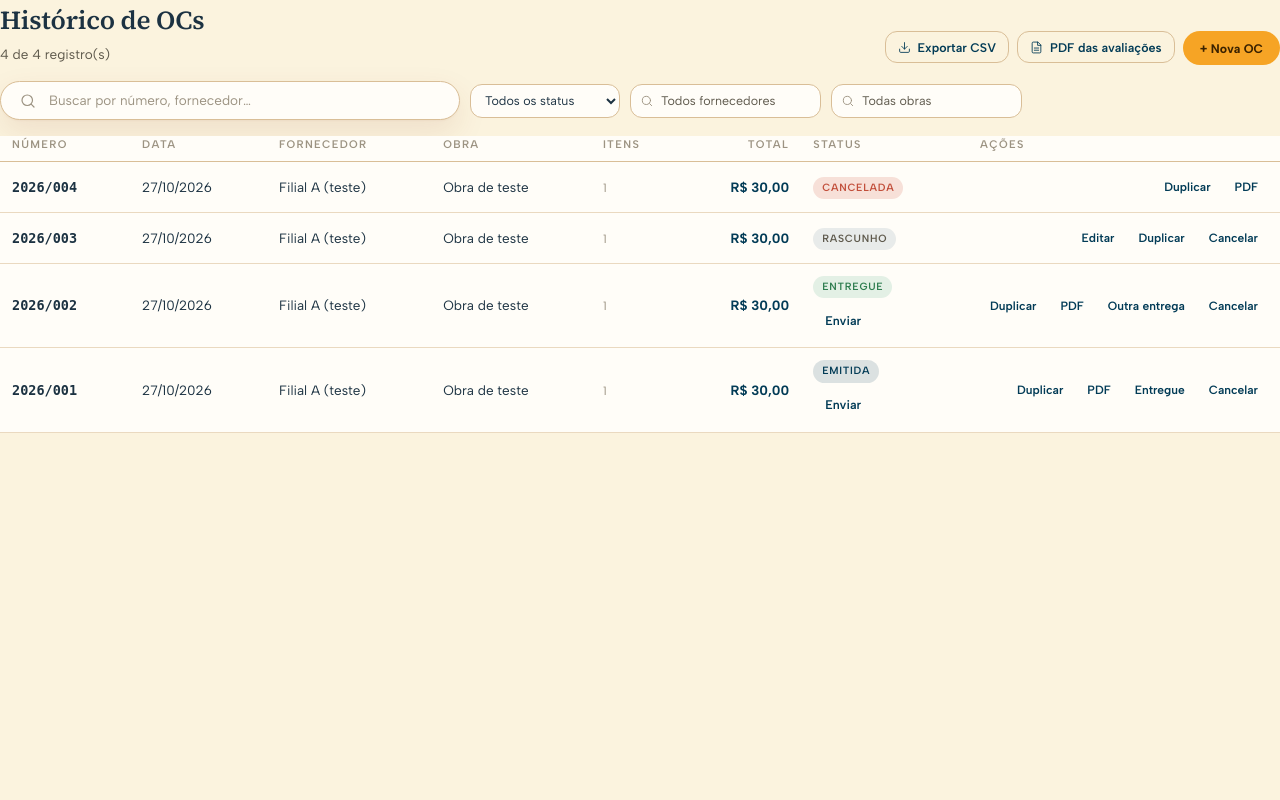
Test: D604 §3.2 — o "Entregue" abre a avaliação › o banco recusou: a frase fica na caixa, que continua aberta com o que foi digitado
Click the button "Entregue": [1160, 390] box [1125,376,1195,404]
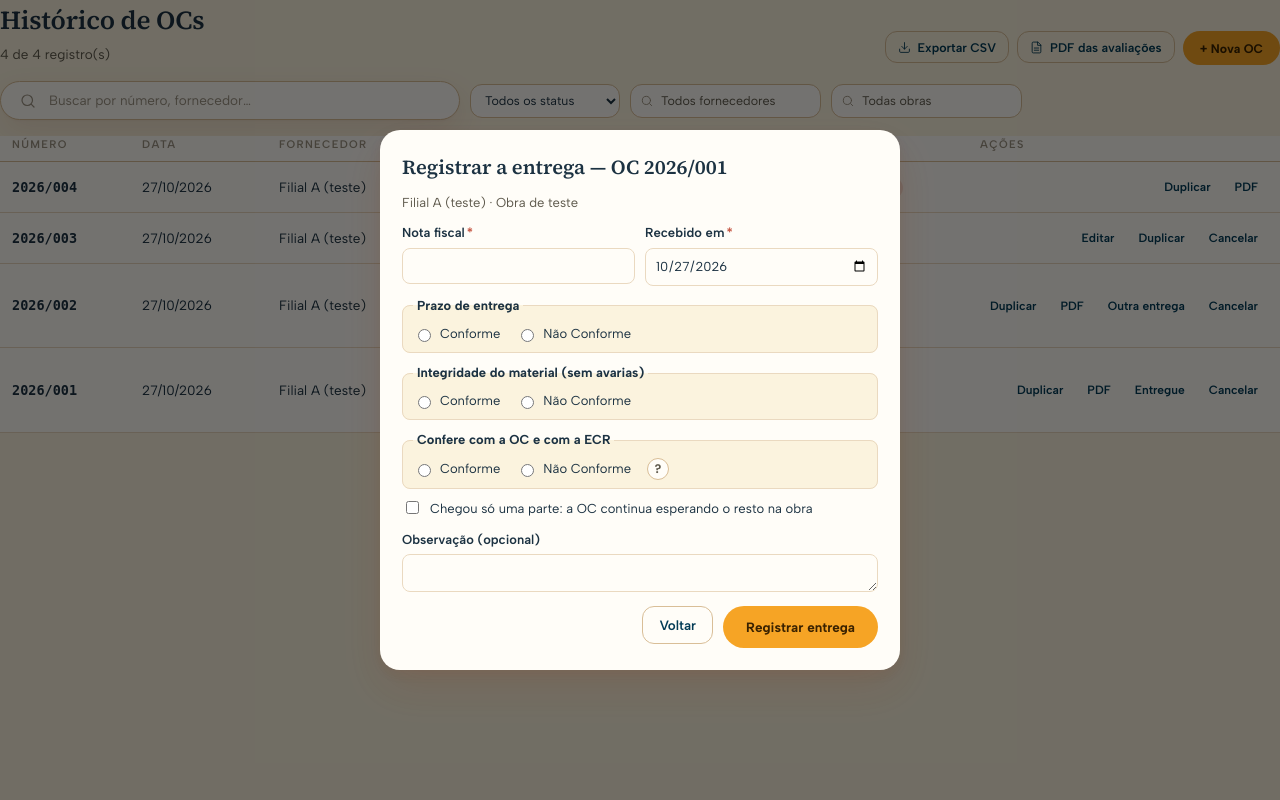
In the field labelled "Nota fiscal*": [518, 266] box [402,248,635,284], type "77"
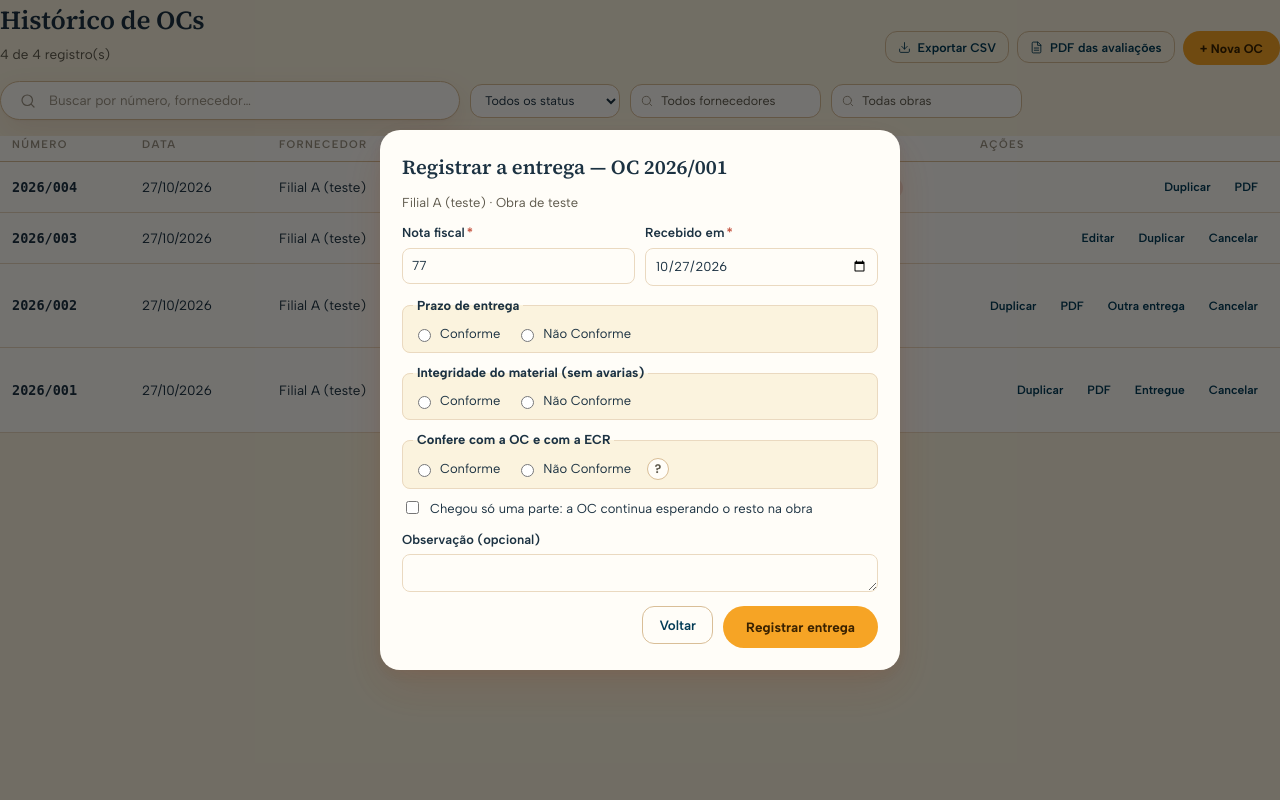
Click the radio button labelled "Conforme" below "Prazo de entrega": [424, 335] box [418,329,431,342]
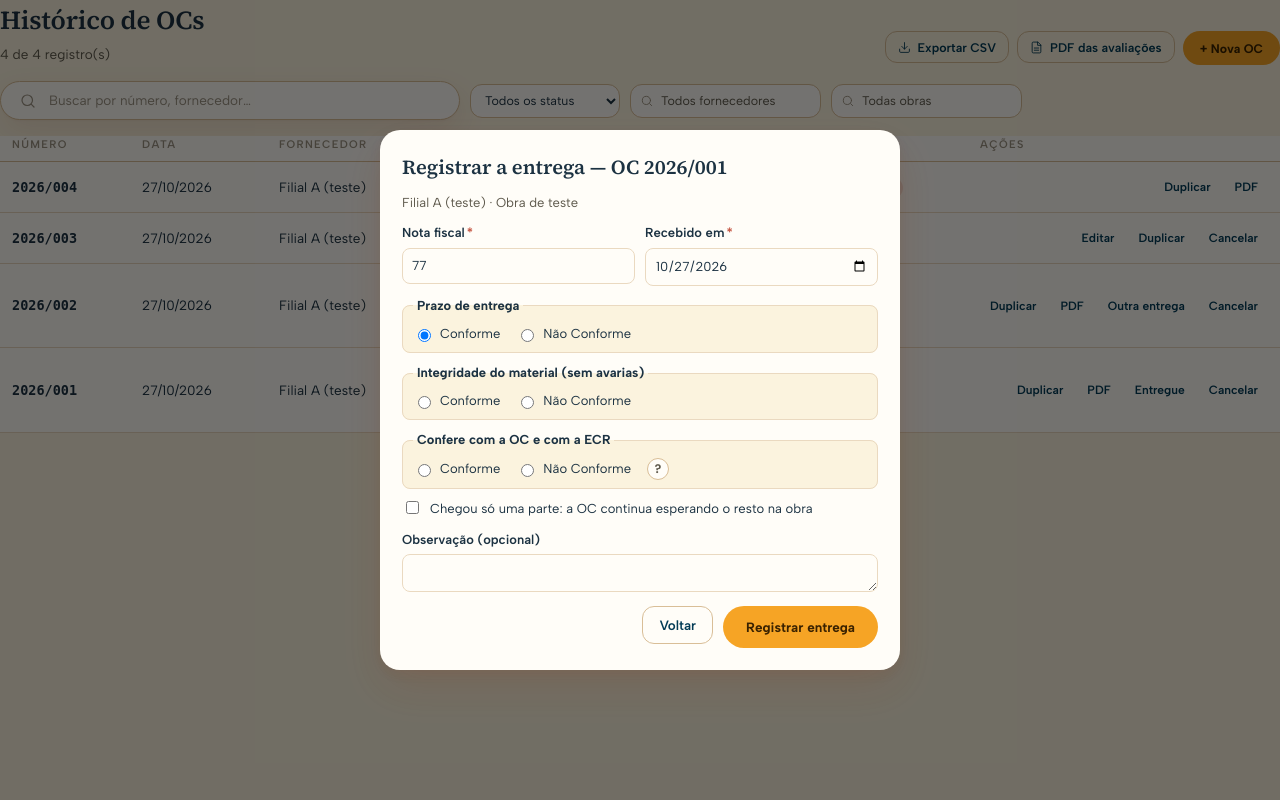
Click the radio button labelled "Conforme" below "Integridade do material (sem avarias)": [424, 403] box [418,396,431,409]
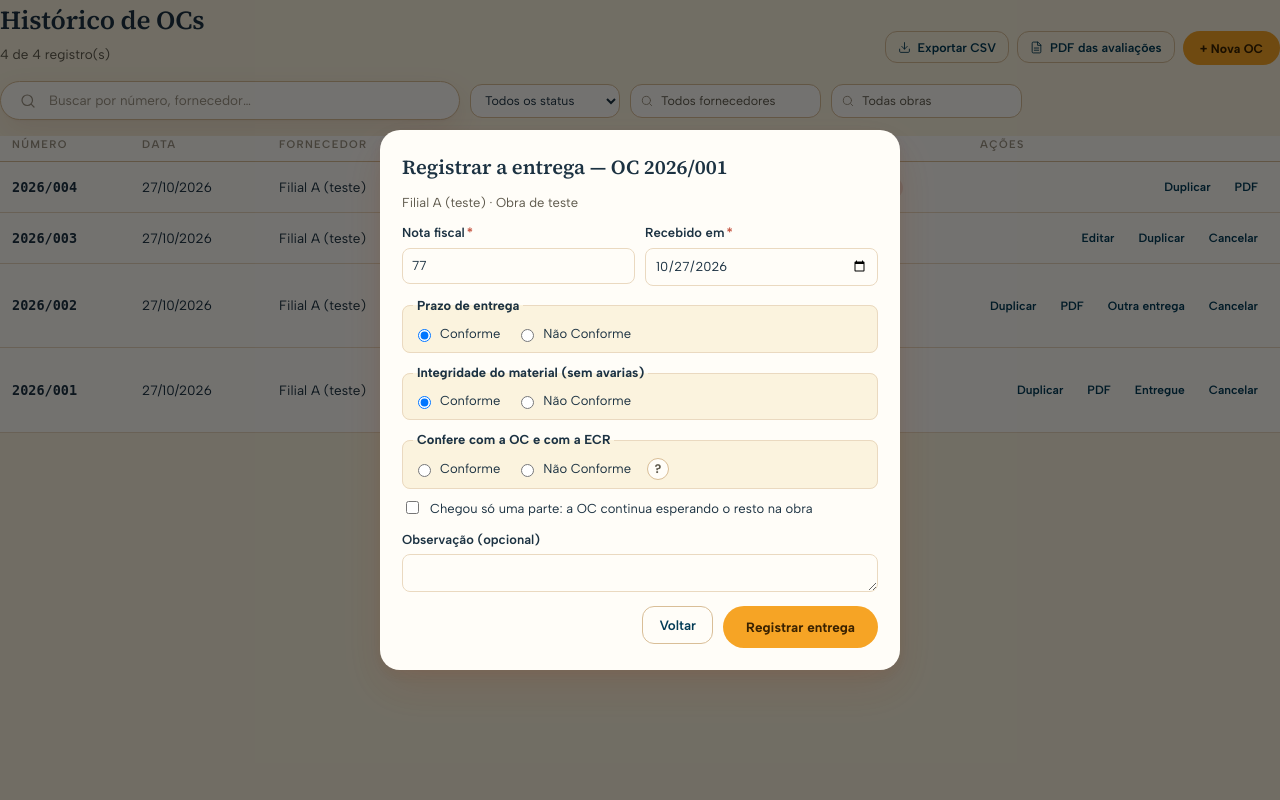
Click the radio button labelled "Conforme" below "Confere com a OC e com a ECR": [424, 471] box [418,464,431,477]
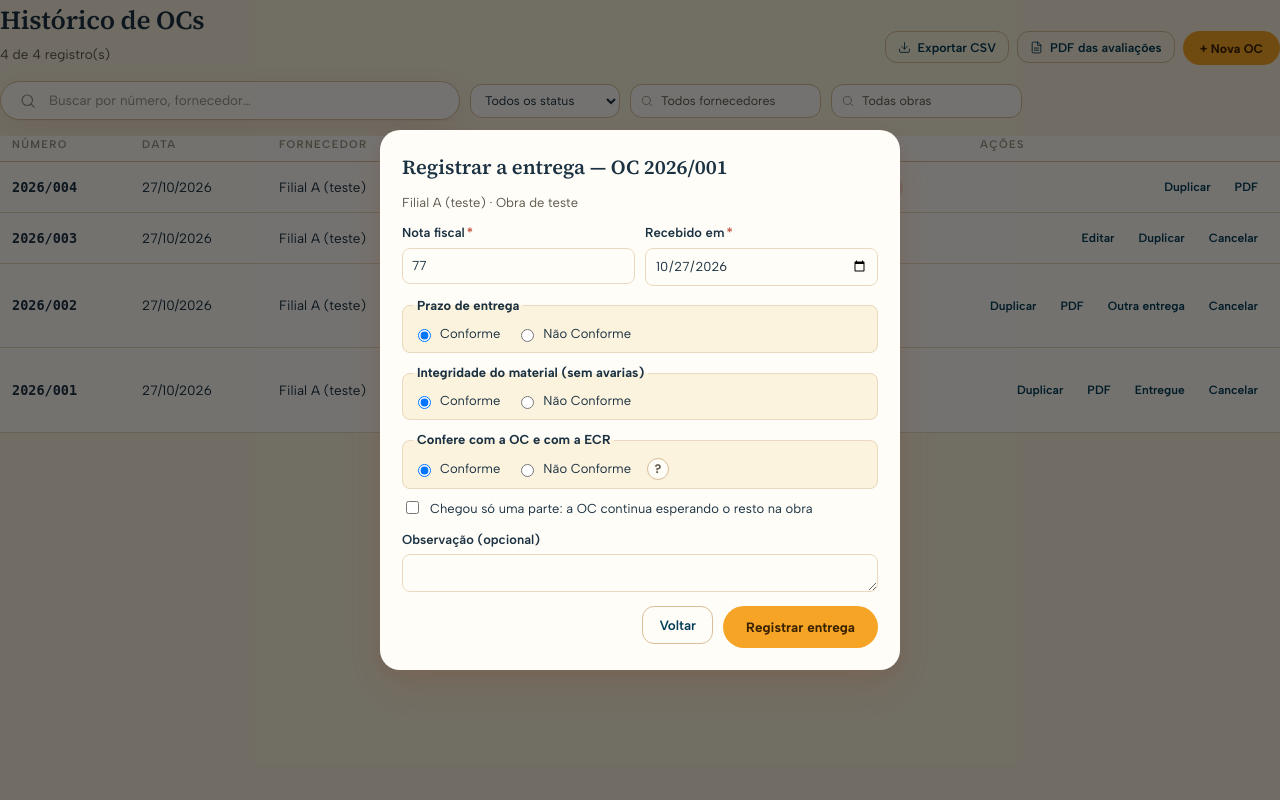
Click the button "Registrar entrega": [801, 627] box [723,606,878,648]
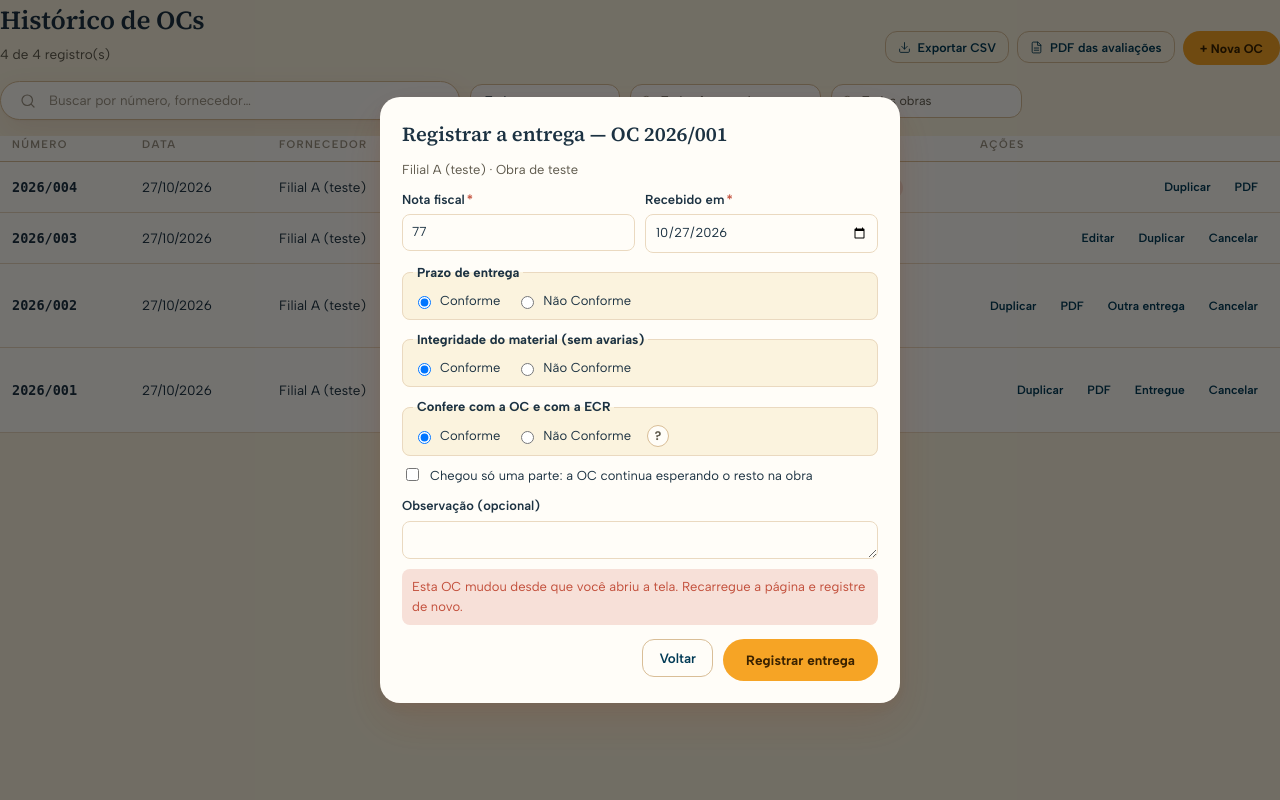
Expected: the message shows "Recarregue a página e registre de novo", [412,579,865,614]
